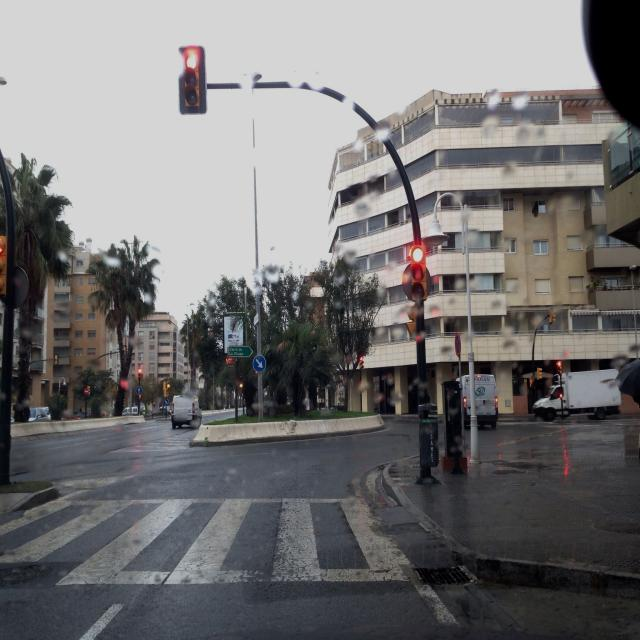car: (460, 373, 498, 428), (171, 394, 202, 428), (122, 405, 139, 415)
